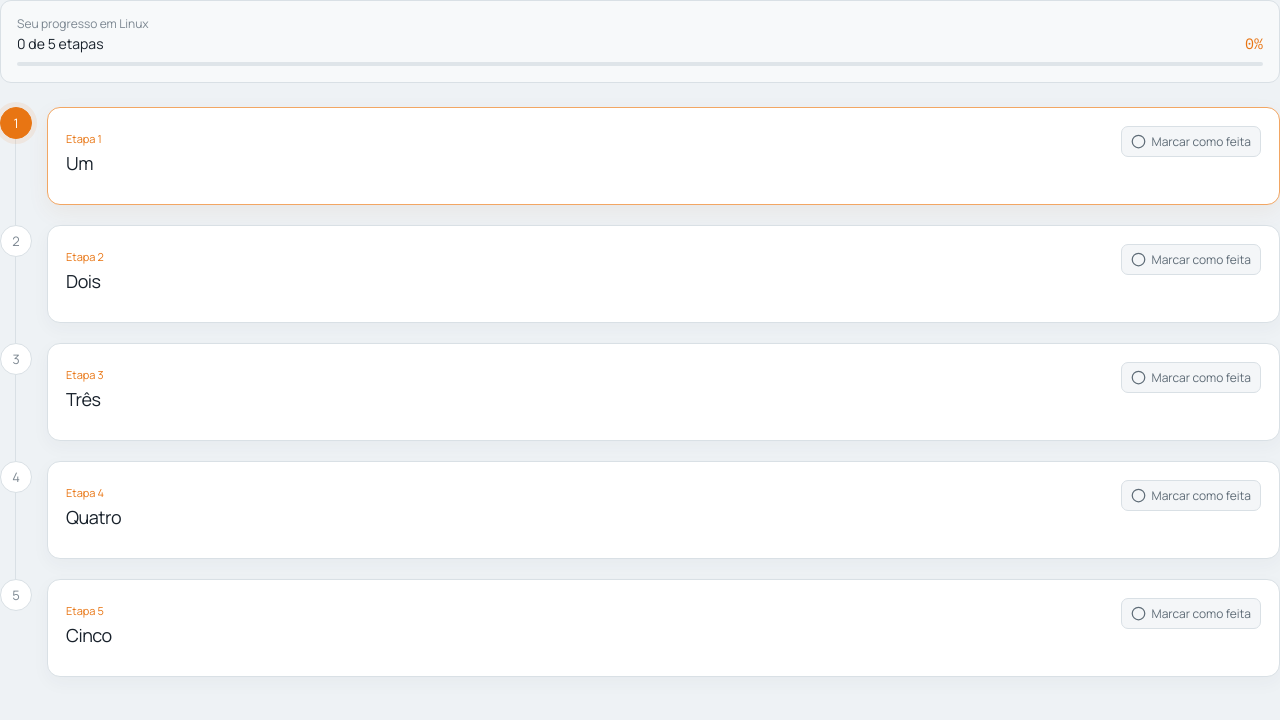
Test case: Timeline › marca todas as etapas até a escolhida quando o usuário confirma
The image size is (1280, 720).
Click the button "Marcar como feita" in the row of "Um" at (1191, 142), box [1120,126,1261,157]
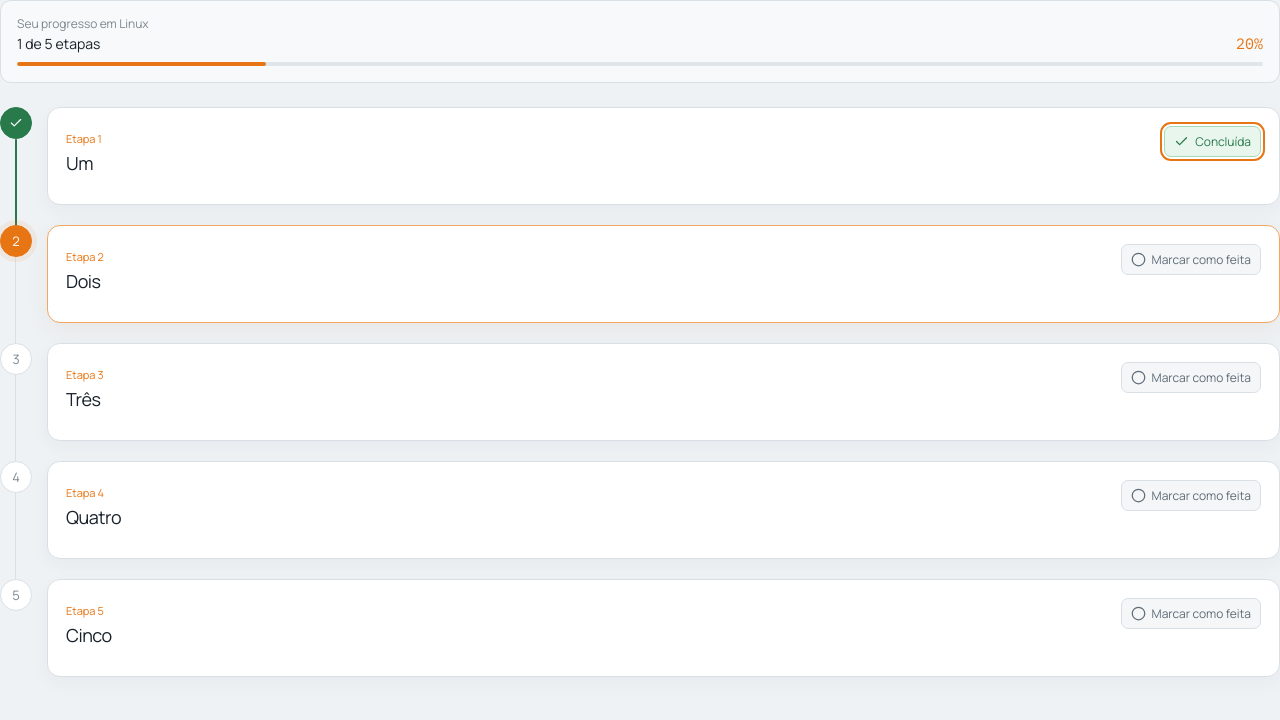
Click the button "Marcar como feita" in the row of "Dois" at (1191, 260), box [1120,244,1261,275]
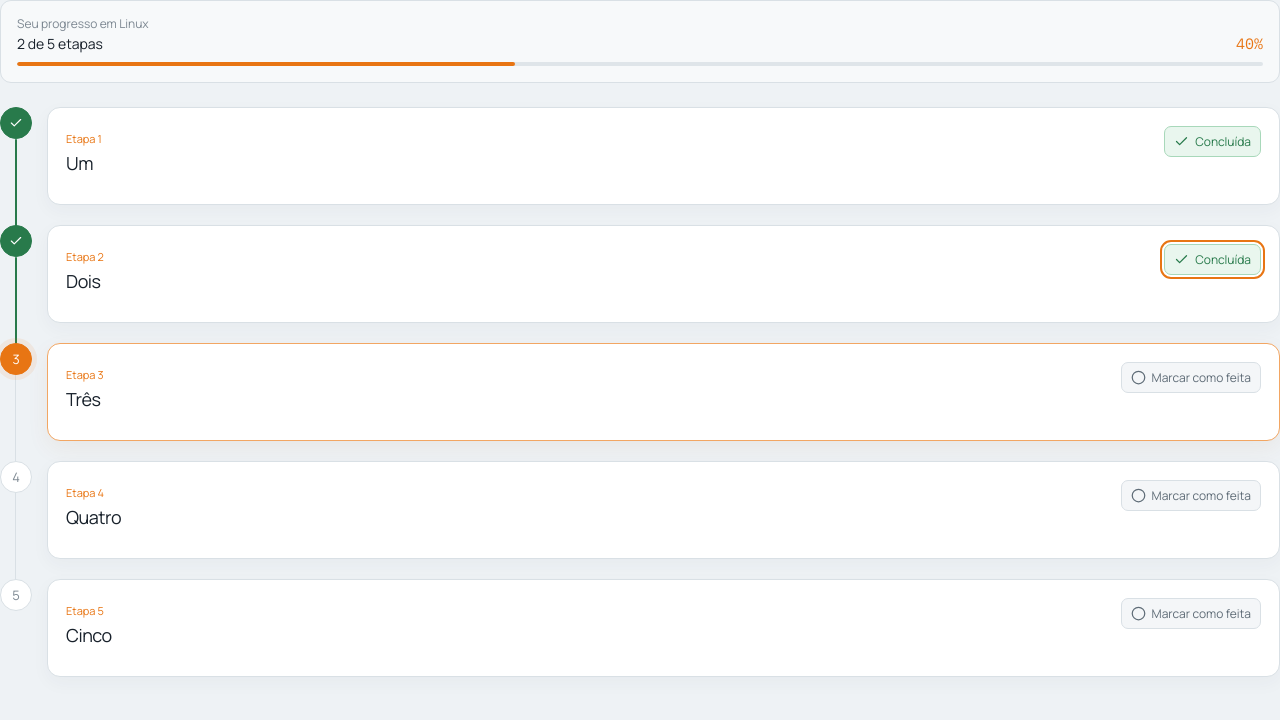
Click the button "Marcar como feita" in the row of "Quatro" at (1191, 496), box [1120,480,1261,511]
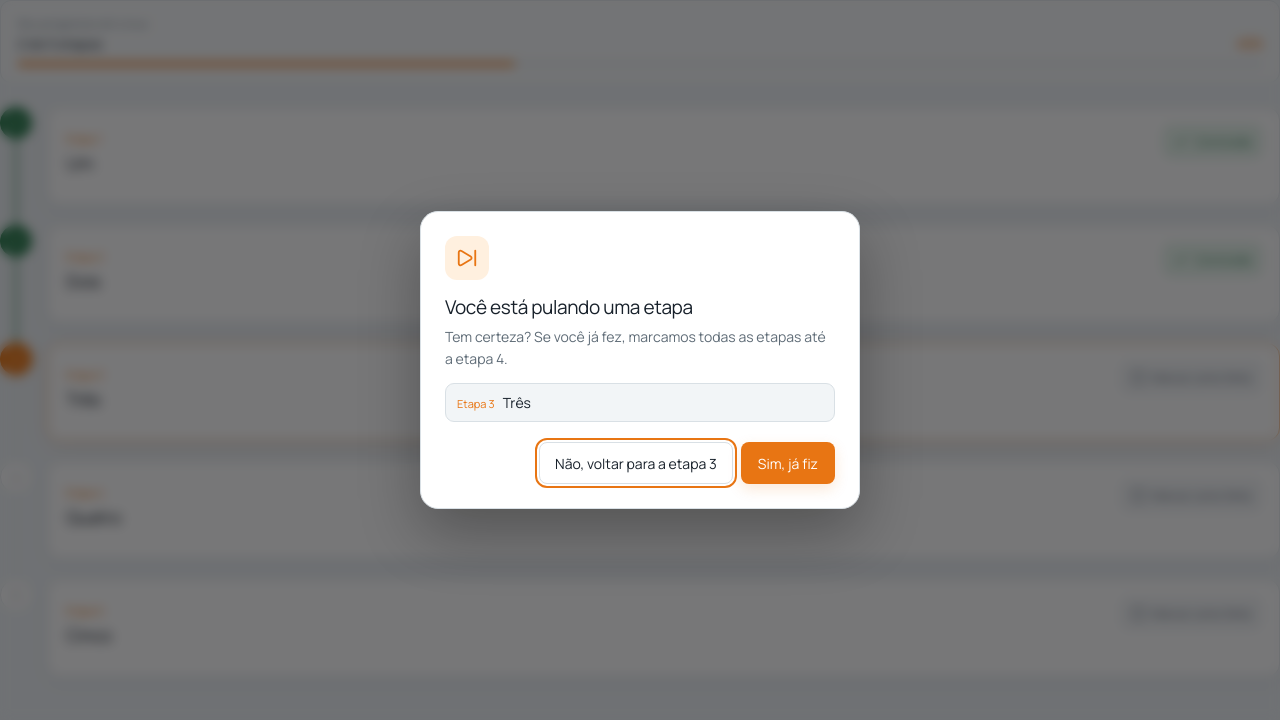
Click the button "Sim, já fiz" at (788, 463), box [741,442,835,484]
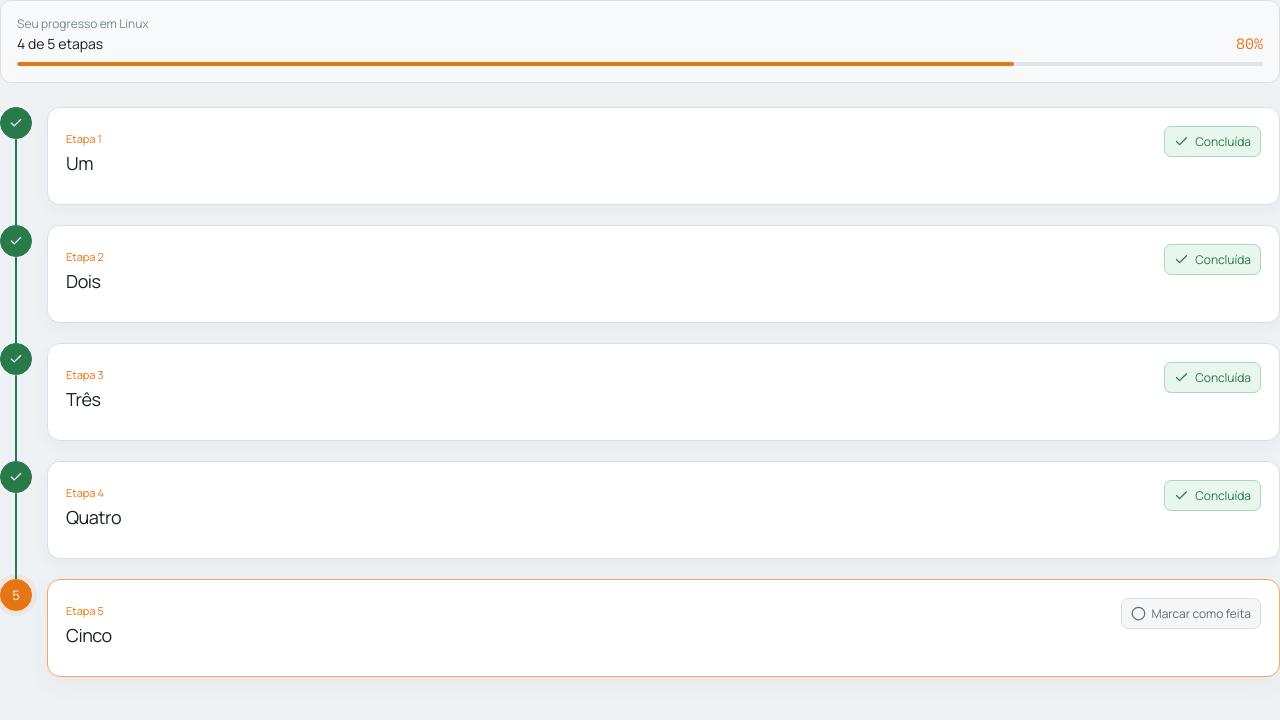
Expected: the dialog is gone
Expected: the text "4 de 5 etapas" is shown, [17,34,103,53]
